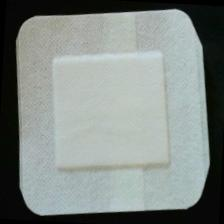Dressing: (3, 1, 224, 224)
